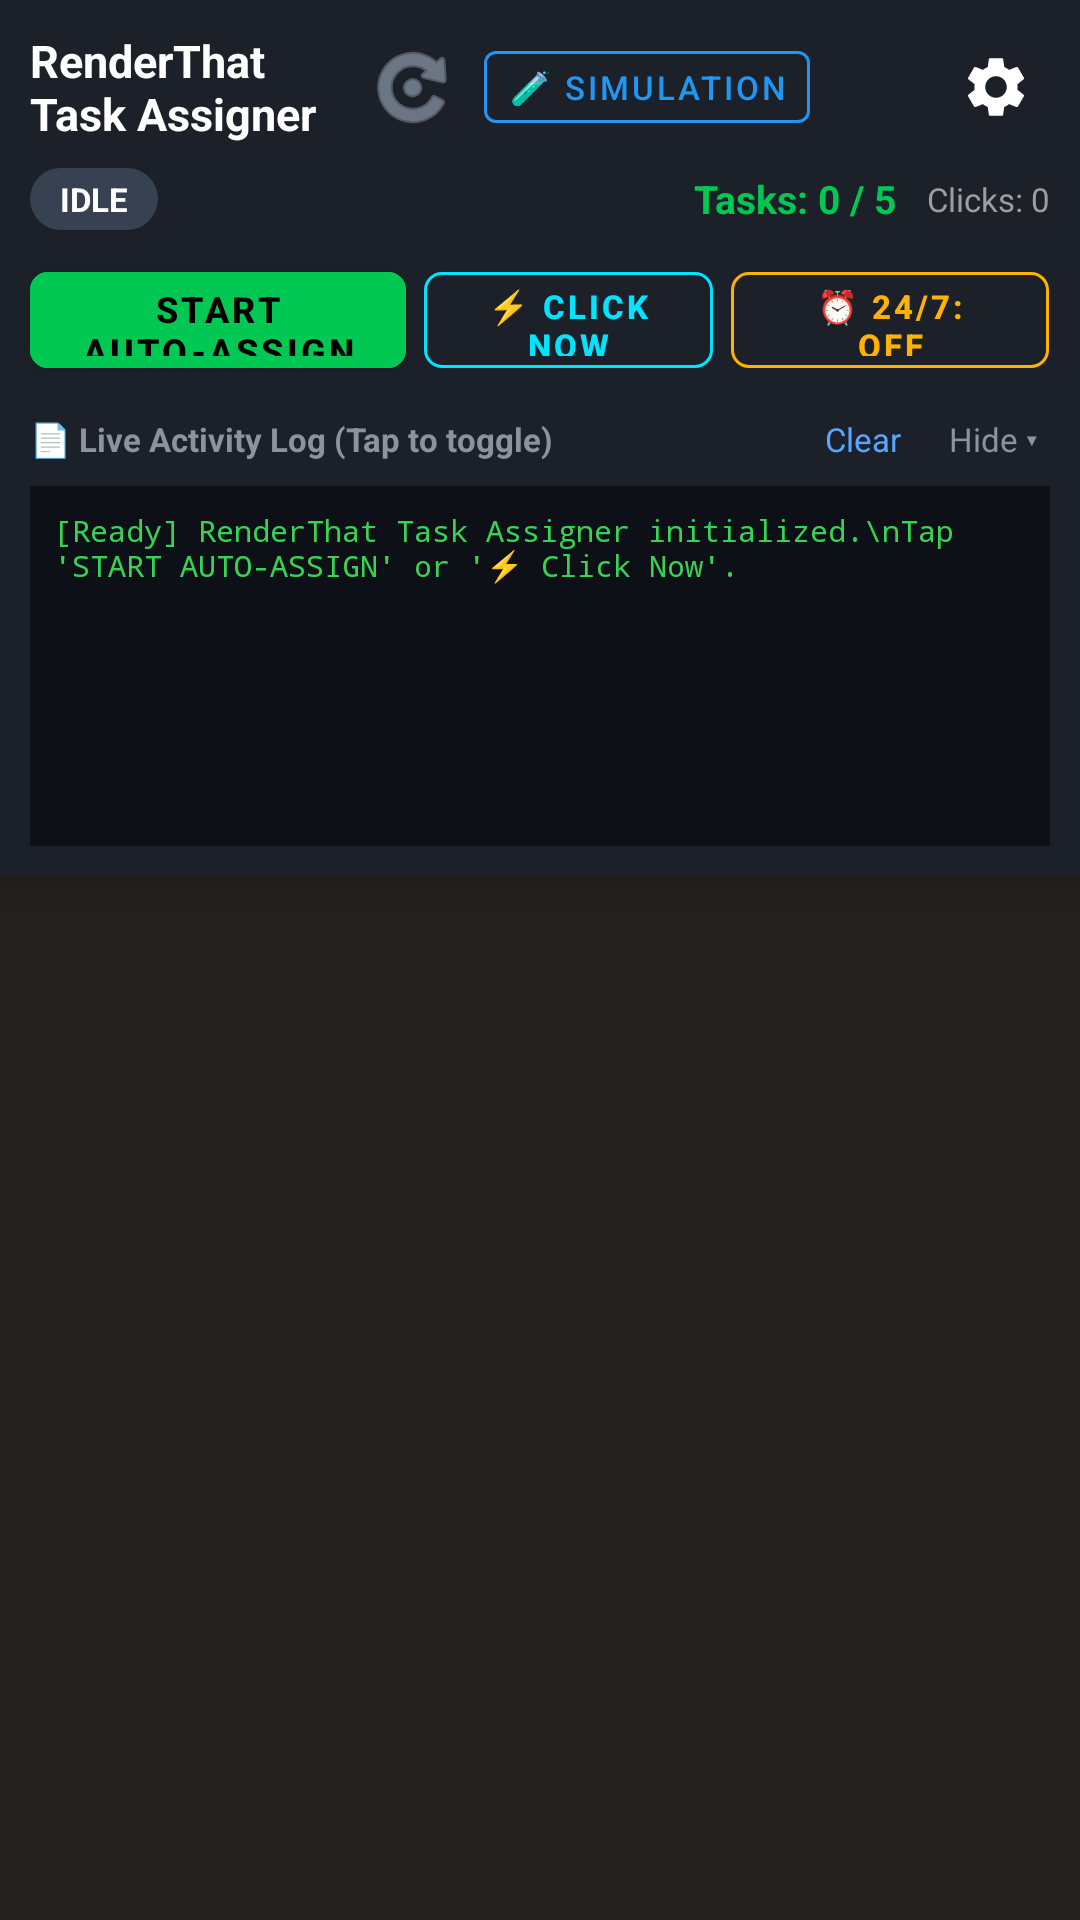

Named icons in this screenshot (1080×1920) and their centers, (x=x, y=y):
Reload Page: (x=412, y=87)
Settings: (x=996, y=87)
